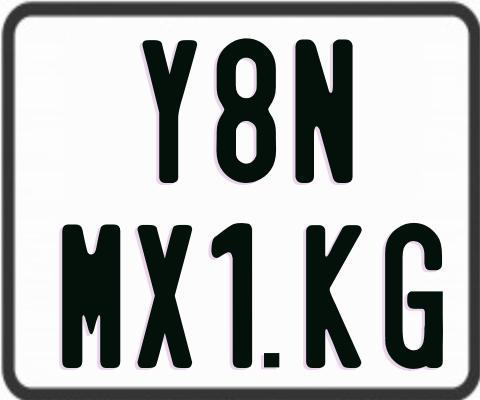1: (211, 222, 254, 368)
8: (214, 35, 274, 182)
G: (382, 220, 443, 372)
K: (306, 224, 362, 367)
M: (61, 223, 122, 368)
N: (293, 40, 351, 184)
X: (137, 223, 196, 371)
Y: (142, 40, 197, 184)
